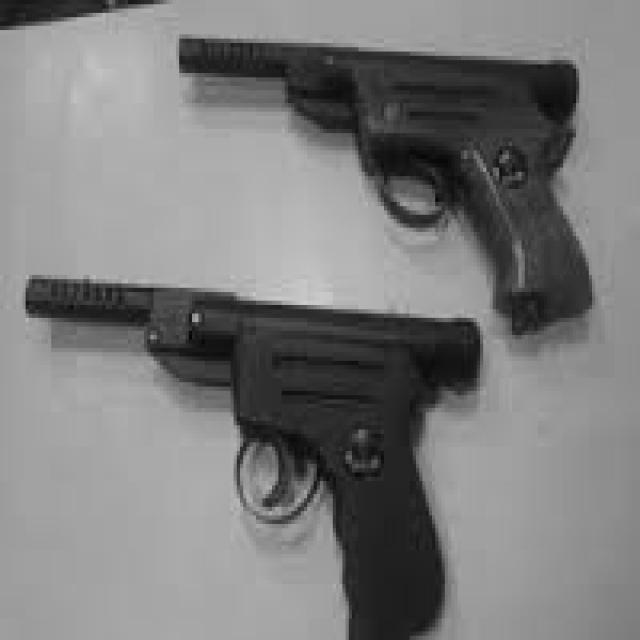gun: (22, 271, 486, 636), (175, 28, 595, 330)
